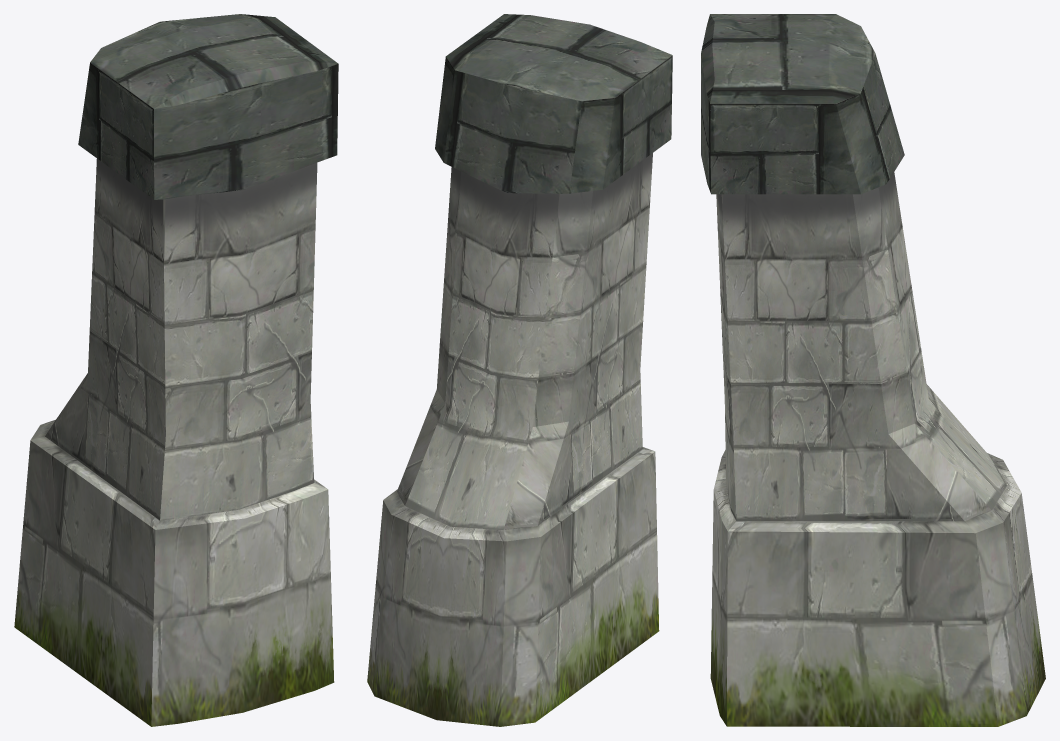
Rendered from Pylon_Wall_01.FBX.
3 views of the same model, side by side, from view 1: azimuth 30°, elevation 25°; view 2: azimuth 150°, elevation 25°; view 3: azimuth 270°, elevation 25° (orthographic). The views are drawn at different scales.
Parts seen in each view (by area): view 1: Pylon_Wall_01; view 2: Pylon_Wall_01; view 3: Pylon_Wall_01.
Part boxes in pixels (x1=…): Pylon_Wall_01: x1=14, y1=14, x2=338, y2=726; Pylon_Wall_01: x1=367, y1=14, x2=672, y2=726; Pylon_Wall_01: x1=701, y1=14, x2=1045, y2=726.
Bounding box in the file's own units: 44.62 × 144 × 70.83.
